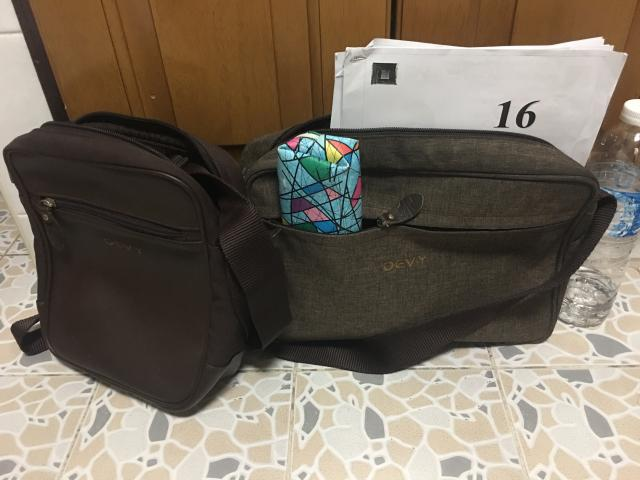bottle: (559, 100, 640, 326)
paper: (331, 36, 626, 165)
